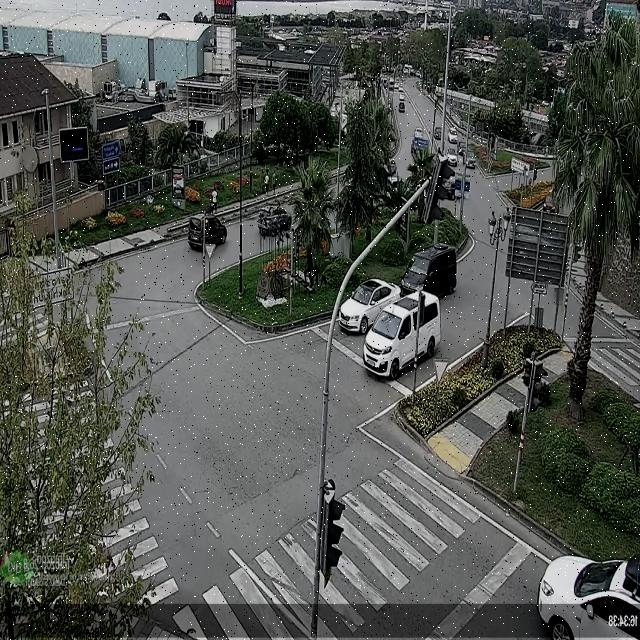car: (361, 293, 439, 381)
